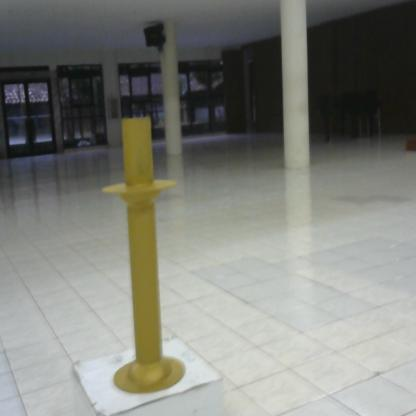pole: (98, 112, 191, 400)
